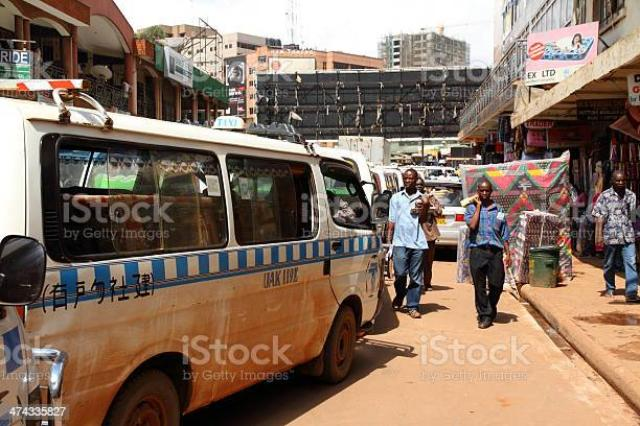van: (0, 78, 383, 426)
